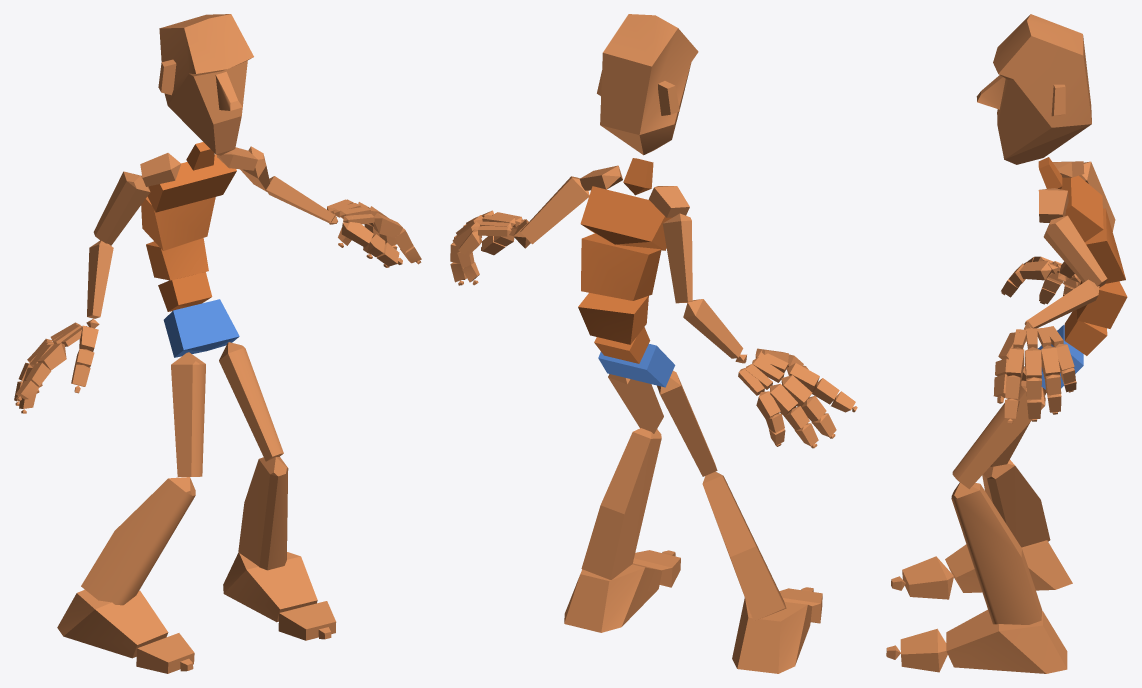
File: prueba204.obj
The picture shows the model from 3 angles, left to right: view 1: azimuth 30°, elevation 25°; view 2: azimuth 150°, elevation 25°; view 3: azimuth 270°, elevation 25°; orthographic projection. The views are drawn at different scales.
Visible parts, largest first — view 1: BOPED_Head, BOPED_R_leg, BOPED_R_foot, BOPED_L_leg, BOPED_R_foot01, BOPED_R_legup, BOPED_L_legup, Bone01, Bone04, Bone05, BOPED_R_arm_upper, Bone03 (+8 smaller); view 2: BOPED_Head, BOPED_L_leg, BOPED_R_leg, BOPED_R_foot01, BOPED_R_foot, Bone04, Bone05, Bone03, BOPED_R_legup, BOPED_R_arm_upper, BOPED_L_arm_upper, Bone01 (+8 smaller); view 3: BOPED_Head, BOPED_L_leg, BOPED_R_foot01, BOPED_R_leg, BOPED_L_legup, BOPED_R_foot, BOPED_L_arm_upper, Bone05, BOPED_R_foot_toe01, BOPED_R_foot_toe04, Bone03, Bone04 (+12 smaller).
Part boxes in pixels (x1=…): BOPED_Head: x1=158, y1=14, x2=253, y2=155; BOPED_R_leg: x1=81, y1=477, x2=195, y2=605; BOPED_R_foot: x1=57, y1=589, x2=168, y2=658; BOPED_L_leg: x1=238, y1=457, x2=288, y2=570; BOPED_R_foot01: x1=223, y1=552, x2=317, y2=622; BOPED_R_legup: x1=171, y1=352, x2=205, y2=476; BOPED_L_legup: x1=219, y1=342, x2=283, y2=461; Bone01: x1=163, y1=299, x2=239, y2=357; Bone04: x1=141, y1=196, x2=215, y2=250; Bone05: x1=147, y1=154, x2=236, y2=212; BOPED_R_arm_upper: x1=93, y1=171, x2=150, y2=245; Bone03: x1=146, y1=238, x2=208, y2=280; BOPED_Head: x1=597, y1=14, x2=698, y2=155; BOPED_L_leg: x1=581, y1=428, x2=661, y2=579; BOPED_R_leg: x1=702, y1=471, x2=786, y2=621; BOPED_R_foot01: x1=564, y1=563, x2=662, y2=632; BOPED_R_foot: x1=732, y1=598, x2=812, y2=673; Bone04: x1=581, y1=233, x2=661, y2=300; Bone05: x1=580, y1=186, x2=671, y2=250; Bone03: x1=578, y1=293, x2=648, y2=344; BOPED_R_legup: x1=657, y1=370, x2=717, y2=476; BOPED_R_arm_upper: x1=662, y1=213, x2=692, y2=303; BOPED_L_arm_upper: x1=520, y1=176, x2=589, y2=244; Bone01: x1=598, y1=344, x2=675, y2=387; BOPED_Head: x1=976, y1=14, x2=1091, y2=164; BOPED_L_leg: x1=951, y1=482, x2=1042, y2=624; BOPED_R_foot01: x1=946, y1=609, x2=1067, y2=673; BOPED_R_leg: x1=982, y1=459, x2=1050, y2=547; BOPED_L_legup: x1=952, y1=380, x2=1045, y2=489; BOPED_R_foot: x1=945, y1=540, x2=1072, y2=592; BOPED_L_arm_upper: x1=1043, y1=215, x2=1107, y2=287; Bone05: x1=1061, y1=175, x2=1103, y2=242; BOPED_R_foot_toe01: x1=902, y1=556, x2=953, y2=599; BOPED_R_foot_toe04: x1=900, y1=628, x2=947, y2=672; Bone03: x1=1076, y1=281, x2=1127, y2=328; Bone04: x1=1082, y1=208, x2=1125, y2=283.
Size of the model in its own units: 130 by 185 by 65.74.
